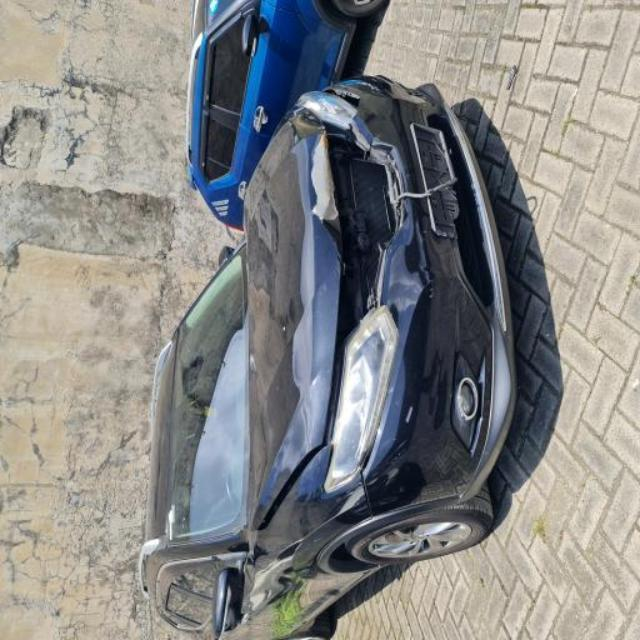dislocated part: (249, 428, 334, 546)
no part: (326, 126, 397, 342)
